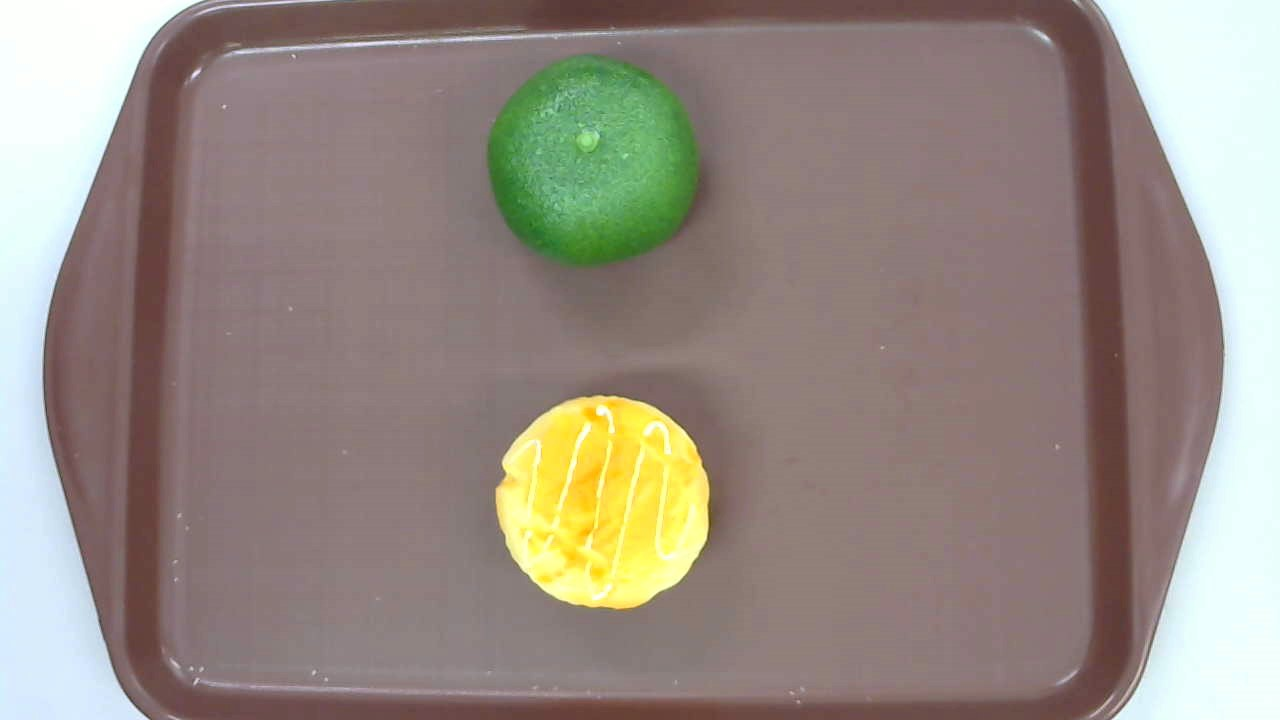cupcake: (496, 393, 711, 610)
green orange: (486, 54, 700, 266)
